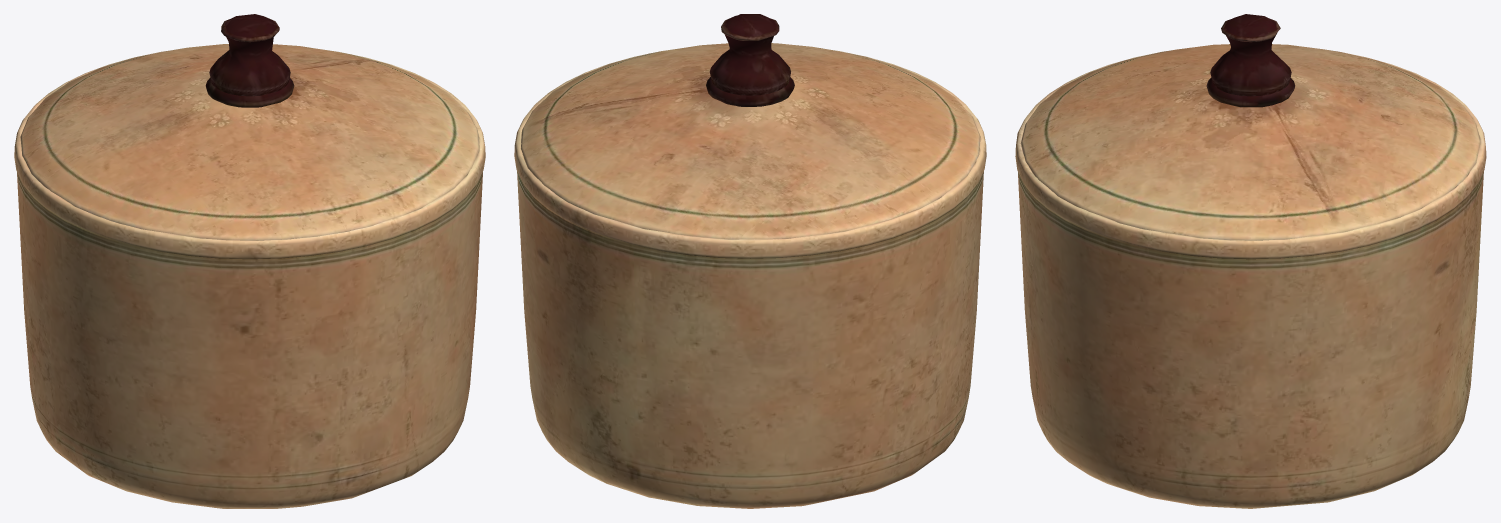
Rendered from brass_pot_01.glb.
The picture shows the model from 3 angles, left to right: view 1: azimuth 30°, elevation 25°; view 2: azimuth 150°, elevation 25°; view 3: azimuth 270°, elevation 25°; orthographic projection.
Visible parts, largest first — view 1: brass_pot_01; view 2: brass_pot_01; view 3: brass_pot_01.
Part boxes in pixels (x1,y1,x2,y2): brass_pot_01: [14, 14, 485, 508]; brass_pot_01: [514, 14, 986, 508]; brass_pot_01: [1015, 14, 1486, 508].
Size of the model in its own units: 0.3019 by 0.2909 by 0.3017.
1 material, 1 textured.
